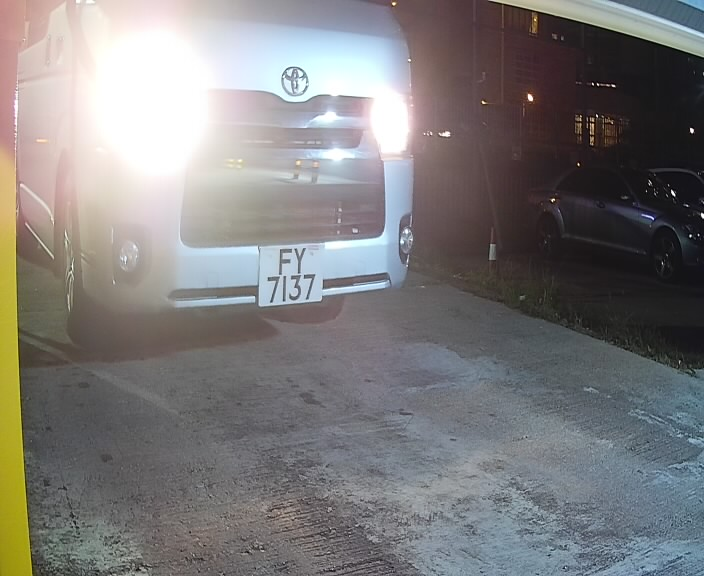Car: (2, 2, 429, 394)
License Plate: (244, 233, 333, 315)
